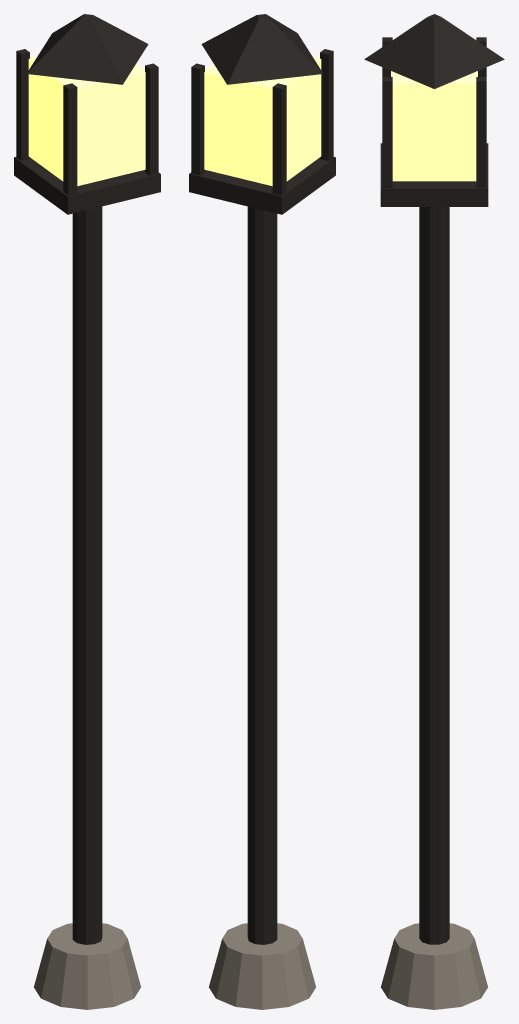
Rendered from farol.glb.
3 renders of one model, left to right at view 1: azimuth 30°, elevation 25°; view 2: azimuth 150°, elevation 25°; view 3: azimuth 270°, elevation 25°, orthographic.
Parts seen in each view (by area): view 1: farol_poste, farol_vidrio, farol_base, farol_tejadillo, farol_base_farol, farol_varilla.001, farol_varilla.003, farol_varilla; view 2: farol_poste, farol_vidrio, farol_base, farol_tejadillo, farol_base_farol, farol_varilla, farol_varilla.002, farol_varilla.001; view 3: farol_poste, farol_vidrio, farol_base, farol_tejadillo, farol_base_farol, farol_varilla.002, farol_varilla.003.
Part boxes in pixels (x1=…): farol_poste: x1=72, y1=206, x2=102, y2=944; farol_vidrio: x1=28, y1=56, x2=145, y2=186; farol_base: x1=34, y1=923, x2=140, y2=1009; farol_tejadillo: x1=26, y1=14, x2=148, y2=84; farol_base_farol: x1=14, y1=157, x2=160, y2=214; farol_varilla.001: x1=63, y1=83, x2=77, y2=195; farol_varilla.003: x1=145, y1=63, x2=158, y2=175; farol_varilla: x1=16, y1=49, x2=29, y2=160; farol_poste: x1=247, y1=206, x2=277, y2=944; farol_vidrio: x1=204, y1=56, x2=321, y2=186; farol_base: x1=209, y1=923, x2=315, y2=1009; farol_tejadillo: x1=201, y1=14, x2=323, y2=84; farol_base_farol: x1=189, y1=157, x2=335, y2=214; farol_varilla: x1=272, y1=83, x2=286, y2=195; farol_varilla.002: x1=191, y1=63, x2=204, y2=175; farol_varilla.001: x1=320, y1=49, x2=333, y2=160; farol_poste: x1=419, y1=207, x2=449, y2=944; farol_vidrio: x1=391, y1=71, x2=477, y2=181; farol_base: x1=381, y1=923, x2=487, y2=1009; farol_tejadillo: x1=364, y1=14, x2=504, y2=88; farol_base_farol: x1=380, y1=143, x2=488, y2=206; farol_varilla.002: x1=476, y1=77, x2=486, y2=187; farol_varilla.003: x1=382, y1=77, x2=392, y2=187.
Bounding box in the file's own units: 0.42 × 3.19 × 0.42.
